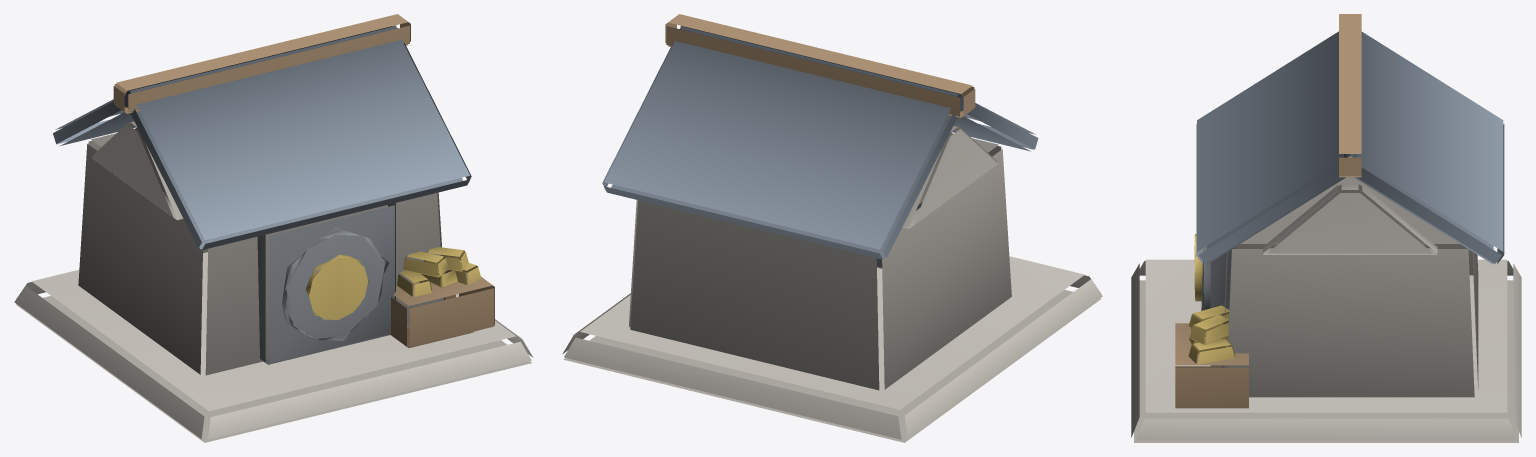
File: gold_mine_vault_lod2.glb
The picture shows the model from 3 angles, left to right: view 1: azimuth 30°, elevation 25°; view 2: azimuth 150°, elevation 25°; view 3: azimuth 270°, elevation 25°; orthographic projection. The views are drawn at different scales.
Visible parts, largest first — view 1: gold_mine_vault.001; view 2: gold_mine_vault.001; view 3: gold_mine_vault.001.
Boxes of the visible parts, x1,y1,x2,y2 form: gold_mine_vault.001: (14,14,533,442); gold_mine_vault.001: (562,14,1102,442); gold_mine_vault.001: (1131,14,1521,442).
Bounding box in the file's own units: 3.62 × 2.84 × 3.62.
